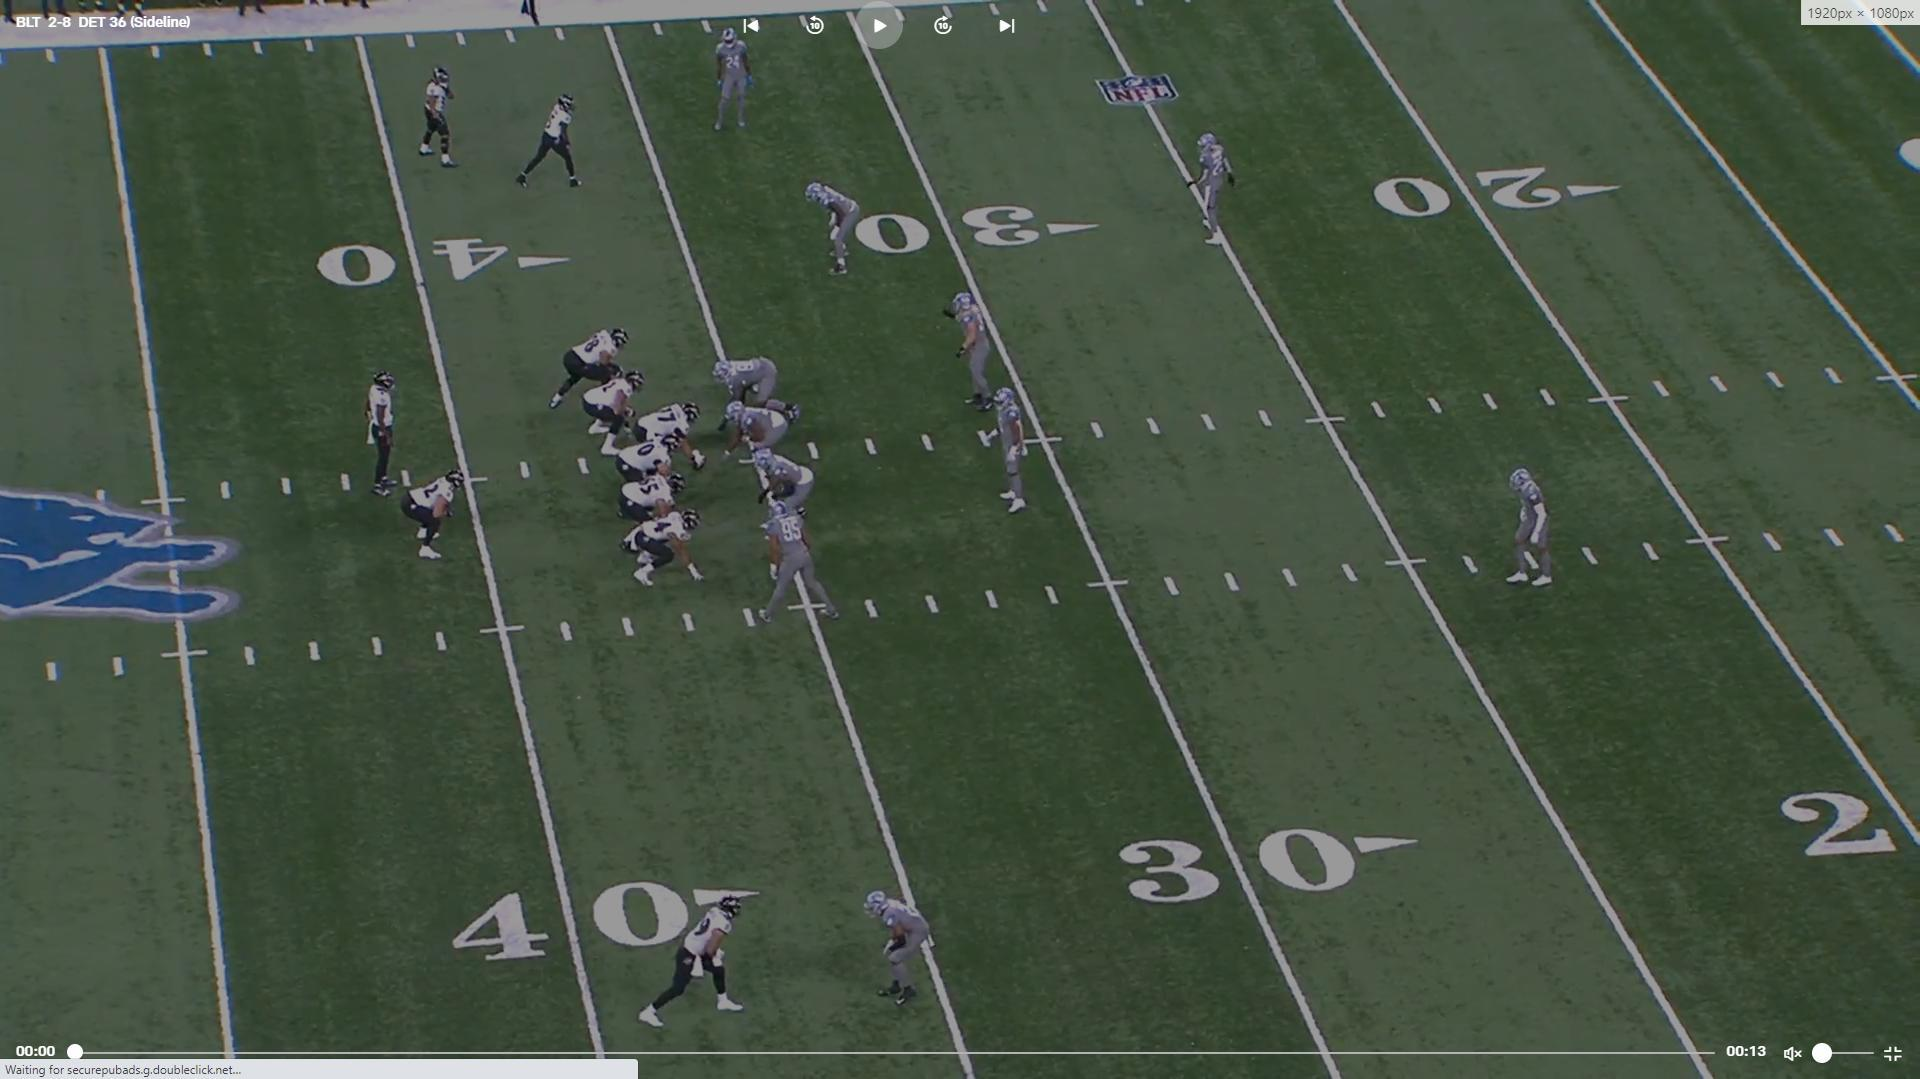defense: (754, 499, 831, 628), (861, 884, 934, 1015), (988, 384, 1035, 522), (805, 177, 866, 282), (711, 353, 801, 423), (710, 23, 763, 141), (1504, 465, 1552, 594), (720, 400, 814, 465), (1183, 128, 1233, 250), (946, 288, 995, 412), (751, 444, 820, 532)
oline: (554, 325, 637, 414), (620, 470, 687, 554), (580, 372, 646, 452), (616, 437, 680, 513), (632, 401, 702, 470)
qb: (366, 366, 410, 502)
ref: (505, 0, 552, 28)
skill: (634, 890, 753, 1029), (516, 90, 590, 194), (622, 505, 702, 592), (401, 468, 462, 565), (417, 61, 462, 176)
